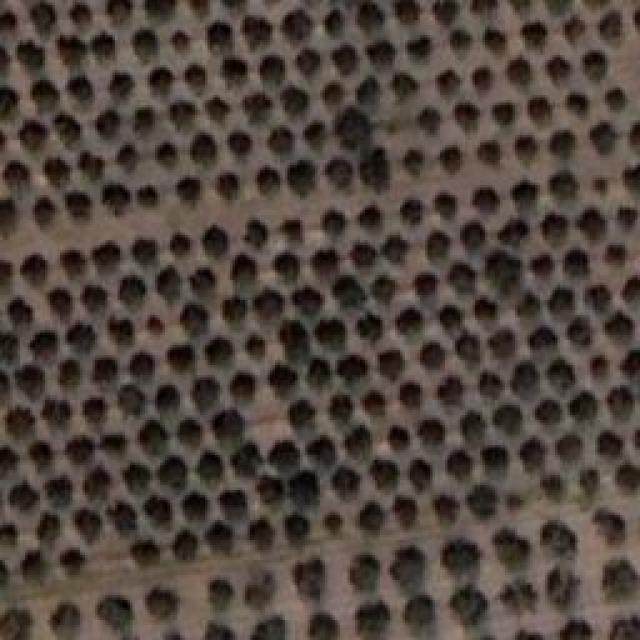Tree: (390, 547, 425, 595), (492, 528, 530, 571), (450, 585, 488, 627), (602, 560, 640, 601), (485, 253, 521, 296), (443, 540, 483, 578), (335, 108, 371, 150), (548, 568, 582, 610), (358, 602, 391, 640), (500, 580, 538, 613), (360, 148, 389, 191), (543, 522, 578, 557), (280, 324, 310, 364), (290, 470, 320, 510), (405, 595, 436, 632), (50, 602, 80, 640), (245, 573, 275, 611), (350, 555, 381, 591), (98, 598, 131, 631), (468, 485, 499, 520), (15, 365, 45, 400), (140, 420, 170, 455), (512, 363, 540, 400), (333, 278, 366, 309), (213, 410, 246, 441), (233, 443, 264, 476), (287, 160, 315, 196), (253, 290, 284, 322), (243, 18, 273, 51), (148, 590, 181, 620), (180, 304, 209, 338), (85, 467, 113, 502), (298, 563, 324, 600), (283, 10, 314, 41), (578, 208, 608, 240), (270, 365, 299, 398), (33, 80, 62, 113), (160, 458, 189, 491), (108, 503, 137, 536), (590, 123, 619, 156), (243, 93, 273, 124), (270, 444, 301, 474), (493, 405, 523, 436), (8, 408, 37, 440), (333, 468, 362, 500), (158, 268, 183, 305), (75, 510, 103, 543), (345, 425, 373, 458), (60, 37, 86, 72), (598, 510, 624, 545), (608, 387, 634, 422), (68, 324, 98, 354), (368, 40, 398, 70), (550, 170, 580, 200), (308, 437, 338, 467), (0, 610, 30, 640), (93, 243, 122, 274), (20, 120, 49, 151), (20, 255, 48, 287), (120, 275, 148, 307), (102, 185, 130, 217), (542, 213, 570, 245), (547, 360, 575, 392), (133, 30, 158, 65), (460, 412, 485, 447), (570, 392, 599, 422), (117, 385, 145, 416), (377, 350, 405, 381), (55, 115, 81, 148), (190, 133, 216, 166), (248, 518, 274, 551), (285, 513, 311, 546), (520, 438, 546, 471), (190, 267, 218, 297), (30, 334, 58, 364), (312, 250, 340, 280), (338, 355, 368, 383), (170, 100, 198, 130), (325, 160, 353, 190), (125, 464, 153, 494), (287, 400, 315, 430), (450, 265, 478, 295), (490, 330, 518, 360), (498, 220, 529, 247), (233, 255, 259, 287), (203, 225, 229, 257), (145, 495, 171, 527), (208, 23, 233, 56), (193, 378, 218, 411), (208, 523, 233, 556), (210, 578, 235, 611), (10, 483, 39, 511), (130, 540, 160, 567), (30, 3, 56, 34), (252, 617, 287, 640), (308, 358, 333, 390), (550, 288, 575, 320), (360, 503, 385, 535), (615, 463, 640, 495), (205, 338, 233, 366), (392, 73, 420, 101), (60, 250, 86, 280), (43, 400, 69, 430), (65, 438, 95, 464), (198, 452, 224, 482), (333, 45, 358, 76), (173, 530, 198, 561), (23, 553, 47, 585), (395, 308, 423, 335), (318, 320, 343, 350), (80, 152, 105, 182), (323, 210, 348, 240), (610, 615, 640, 640), (410, 460, 433, 492), (268, 128, 294, 156), (358, 3, 384, 31), (438, 378, 464, 406), (448, 450, 474, 478), (558, 435, 584, 463), (150, 67, 175, 96), (183, 493, 208, 522), (50, 290, 74, 320), (260, 55, 284, 85), (428, 232, 452, 262), (455, 334, 479, 364), (600, 12, 624, 42), (568, 318, 592, 348), (393, 498, 417, 528), (185, 65, 208, 96), (83, 285, 109, 312), (168, 345, 194, 372), (585, 285, 611, 312), (550, 133, 576, 160), (8, 298, 33, 326), (45, 160, 70, 188), (95, 110, 120, 138), (285, 88, 310, 116), (438, 70, 463, 98), (460, 223, 485, 251), (512, 182, 540, 207), (508, 58, 533, 86), (435, 495, 460, 523), (605, 314, 634, 338), (60, 360, 83, 390), (38, 512, 61, 542), (585, 52, 608, 82), (433, 0, 459, 26), (420, 420, 446, 446), (535, 400, 561, 426), (223, 298, 248, 325), (358, 315, 383, 342), (298, 50, 323, 77), (230, 373, 255, 400), (60, 550, 85, 577), (383, 235, 408, 262), (373, 278, 398, 305), (518, 293, 543, 320), (548, 58, 573, 85), (2, 164, 30, 188), (144, 0, 176, 21), (223, 60, 247, 88), (258, 168, 282, 196), (178, 420, 202, 448), (30, 443, 54, 471), (455, 103, 479, 131), (515, 135, 539, 163), (530, 328, 559, 351), (133, 240, 158, 266), (295, 290, 321, 315), (68, 78, 93, 104), (20, 45, 45, 71), (110, 73, 135, 99), (155, 385, 180, 411), (350, 242, 376, 267), (313, 615, 339, 640), (245, 220, 269, 247), (93, 33, 117, 60), (48, 480, 72, 507), (330, 395, 354, 422), (540, 475, 564, 502), (118, 145, 141, 173), (35, 197, 56, 227), (375, 460, 396, 490), (130, 354, 156, 378), (107, 0, 133, 24), (228, 133, 252, 159), (440, 305, 464, 331), (275, 255, 298, 282), (440, 148, 463, 175), (530, 98, 553, 125), (560, 620, 591, 640), (0, 200, 16, 238), (178, 177, 202, 202), (226, 492, 246, 522), (530, 255, 554, 280), (565, 252, 589, 277), (420, 344, 445, 368), (598, 432, 622, 457), (358, 78, 381, 104), (418, 108, 441, 134), (400, 200, 423, 226), (580, 470, 599, 501), (113, 318, 134, 346), (263, 475, 284, 503), (363, 394, 387, 418), (358, 206, 382, 230), (85, 397, 108, 422), (473, 190, 498, 213), (415, 273, 440, 296), (0, 448, 19, 478), (70, 3, 91, 30), (403, 150, 424, 177), (0, 85, 18, 116), (208, 98, 232, 121), (400, 384, 423, 408), (68, 195, 90, 220), (408, 38, 433, 60), (100, 435, 126, 456), (565, 18, 586, 44), (325, 10, 345, 37), (485, 448, 508, 471), (95, 360, 119, 382), (205, 623, 236, 640), (525, 25, 546, 50), (323, 83, 346, 105), (395, 3, 418, 25), (475, 298, 498, 320), (605, 245, 628, 267), (0, 335, 18, 363), (218, 176, 239, 200), (435, 194, 456, 218), (568, 92, 589, 116), (622, 165, 640, 193), (622, 350, 640, 378), (245, 335, 265, 360), (158, 142, 178, 167), (480, 372, 500, 397), (170, 233, 191, 256), (605, 88, 626, 111), (388, 428, 409, 451), (305, 123, 322, 151), (592, 355, 610, 381), (478, 143, 499, 165), (450, 30, 471, 52), (473, 68, 493, 91), (485, 30, 505, 53), (135, 108, 152, 135), (623, 278, 640, 304), (618, 208, 638, 230), (495, 105, 515, 126), (323, 513, 343, 534), (545, 0, 572, 15), (173, 30, 192, 51), (0, 525, 18, 547), (0, 12, 18, 32), (285, 224, 302, 244), (474, 0, 498, 13), (0, 260, 12, 286), (630, 123, 640, 153), (140, 190, 157, 207), (507, 495, 525, 511), (0, 44, 9, 74), (510, 0, 532, 12), (148, 315, 162, 333), (515, 632, 545, 640), (595, 178, 609, 195), (632, 428, 640, 450)
